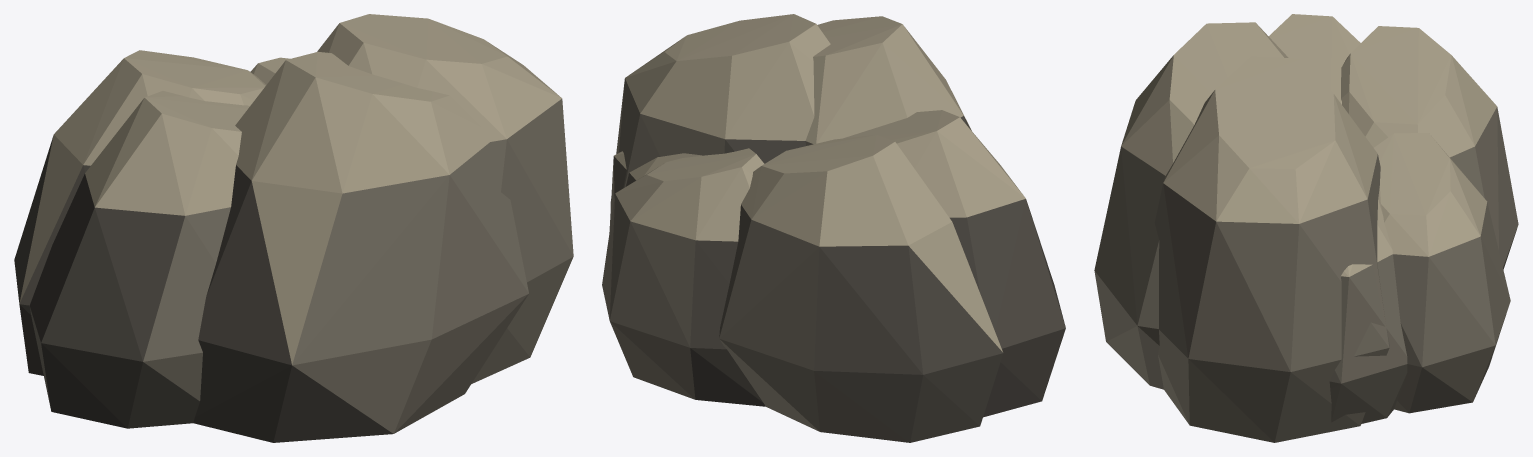
Rendered from TW_ROCK_CLUSTER_LARGE_B_LOD0.glb.
The picture shows the model from 3 angles, left to right: view 1: azimuth 30°, elevation 25°; view 2: azimuth 150°, elevation 25°; view 3: azimuth 270°, elevation 25°; orthographic projection. The views are drawn at different scales.
Visible parts, largest first — view 1: TW_ROCK_CLUSTER_LARGE_B_LOD0; view 2: TW_ROCK_CLUSTER_LARGE_B_LOD0; view 3: TW_ROCK_CLUSTER_LARGE_B_LOD0.
Boxes of the visible parts, <box> form: TW_ROCK_CLUSTER_LARGE_B_LOD0: <box>14,14,573,442</box>; TW_ROCK_CLUSTER_LARGE_B_LOD0: <box>602,14,1065,442</box>; TW_ROCK_CLUSTER_LARGE_B_LOD0: <box>1094,14,1518,442</box>.
Bounding box in the file's own units: 1.85 × 1.14 × 1.42.
Materials: 1 (1 with a texture image).
